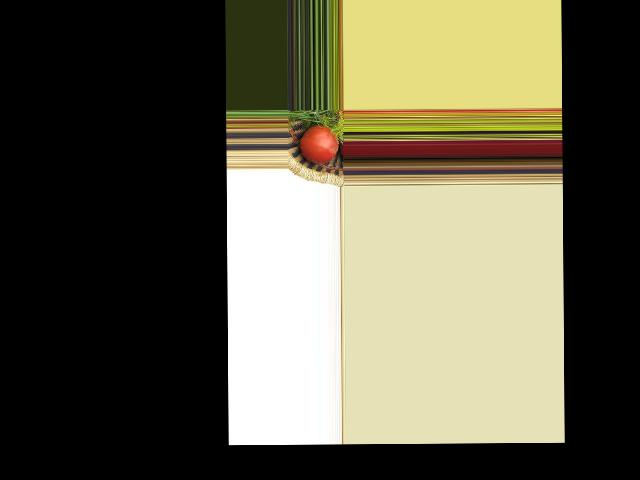tomato: (300, 124, 338, 163)
